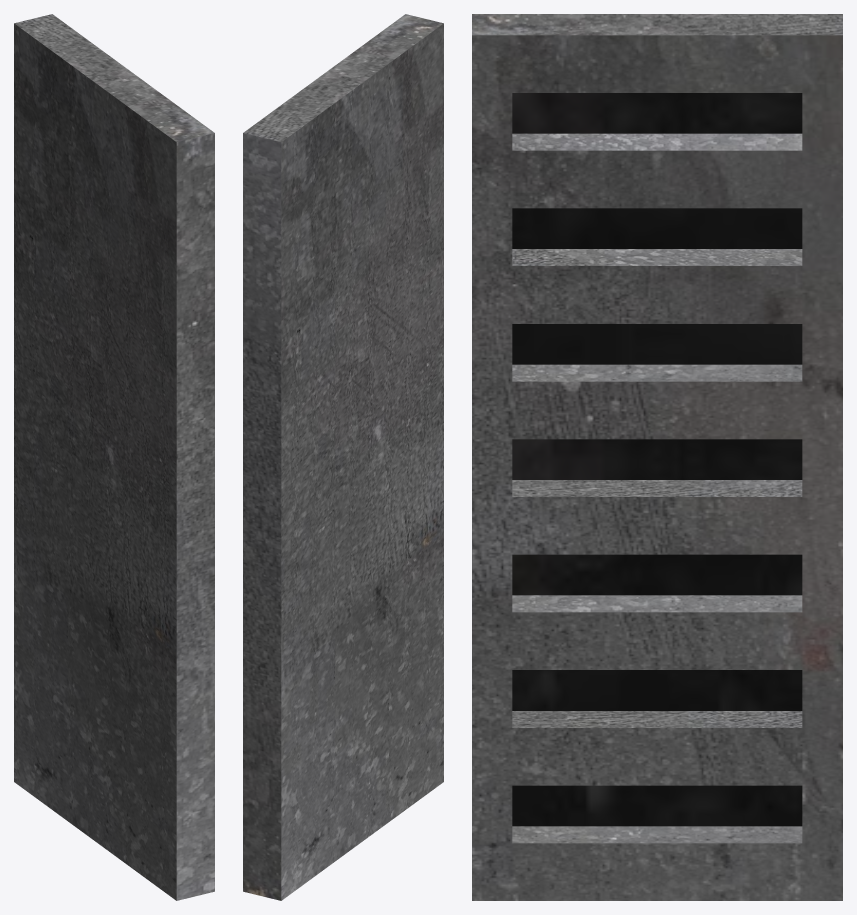
File: ladder.obj
3 views of the same model, side by side, from view 1: azimuth 30°, elevation 25°; view 2: azimuth 150°, elevation 25°; view 3: azimuth 270°, elevation 25° (orthographic). The views are drawn at different scales.
Visible parts, largest first — view 1: Cube.026; view 2: Cube.026; view 3: Cube.026.
Part boxes in pixels (x1,y1,x2,y2): Cube.026: (14, 14, 214, 900); Cube.026: (243, 14, 443, 900); Cube.026: (472, 14, 842, 900).
Size of the model in its own units: 0.2719 by 5.15 by 2.
